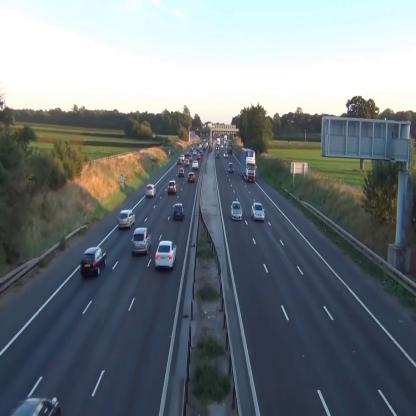car: (80, 247, 107, 277), (155, 241, 177, 271), (131, 227, 152, 253), (118, 210, 135, 229), (230, 202, 243, 222), (252, 202, 265, 220), (173, 202, 185, 220), (145, 184, 156, 198), (168, 179, 178, 194), (188, 172, 196, 182), (178, 167, 184, 177), (192, 160, 198, 170), (229, 161, 233, 172), (184, 158, 189, 166), (216, 151, 220, 159), (177, 158, 182, 164), (224, 151, 228, 158), (197, 153, 200, 160)
lorry: (241, 147, 257, 182)
